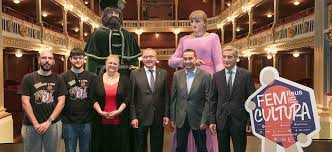person: (129, 45, 173, 90), (217, 45, 250, 104), (174, 50, 215, 97), (99, 52, 135, 97), (65, 50, 96, 94), (25, 51, 61, 88)
